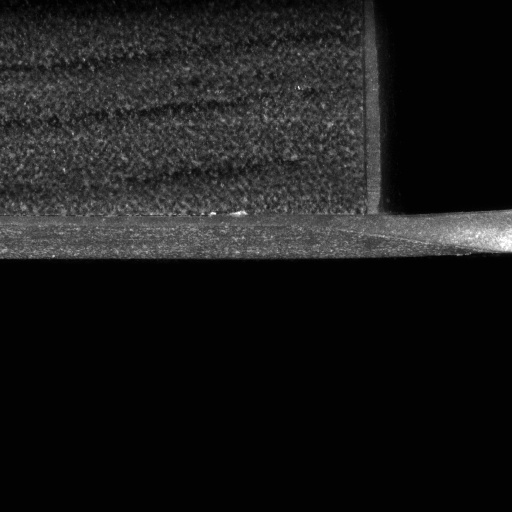changdai: (375, 208, 511, 261)
